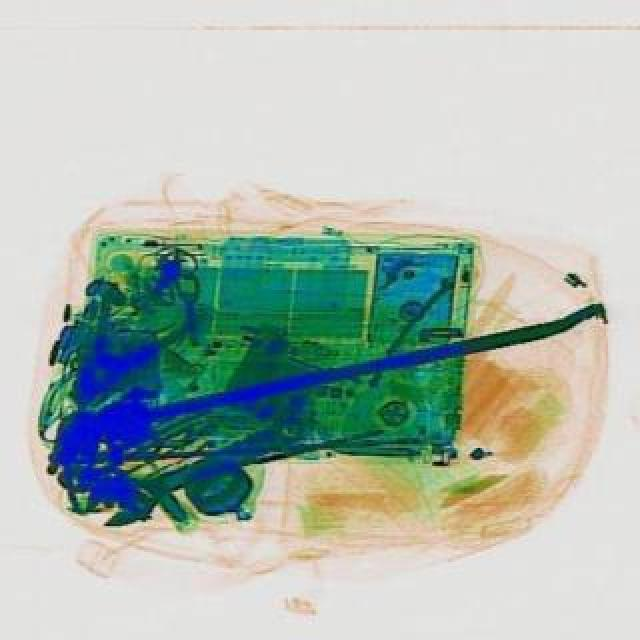scissors: (72, 398, 312, 538)
